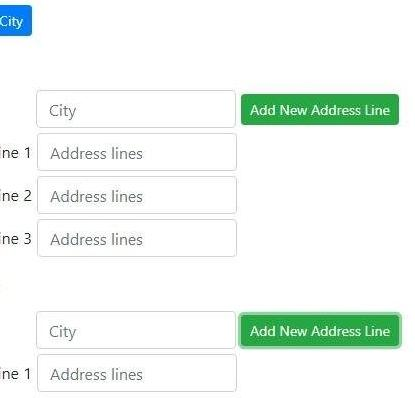button: (238, 311, 402, 351), (240, 92, 400, 127)
field: (34, 88, 238, 130), (35, 175, 238, 216), (35, 131, 237, 172), (35, 218, 239, 258), (34, 311, 236, 350), (35, 354, 237, 393)
